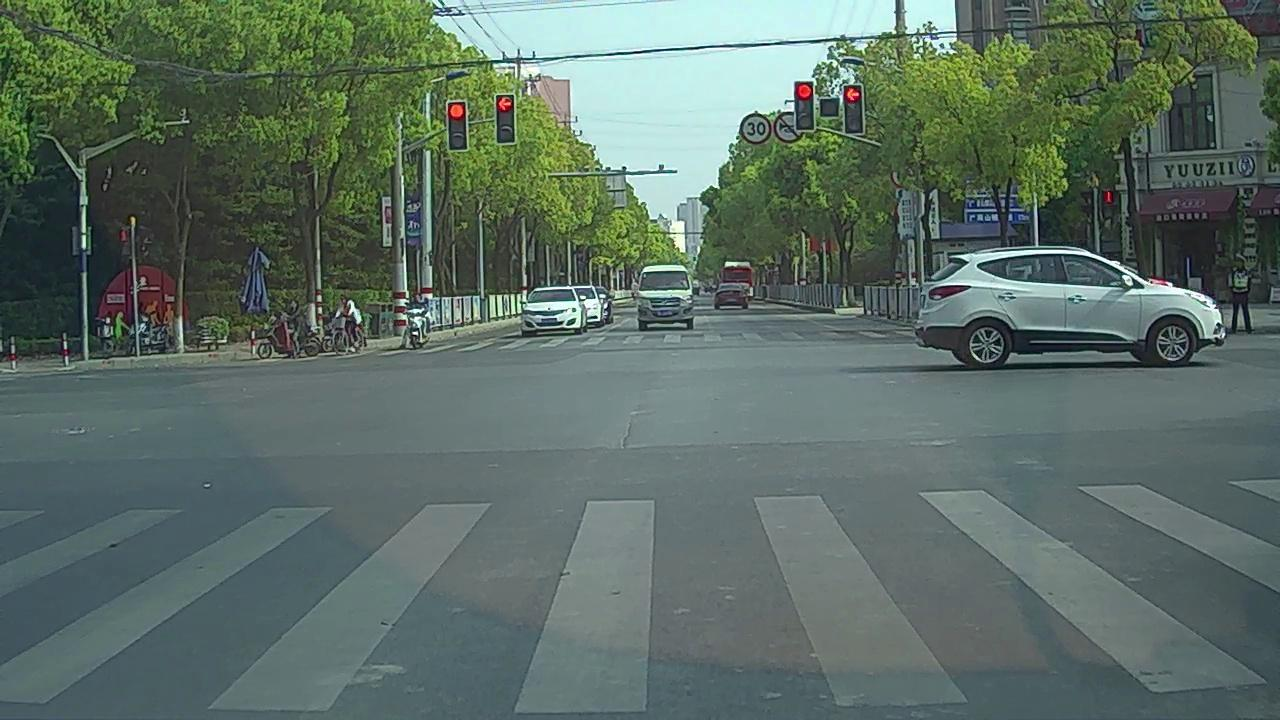traffic_light: (448, 100, 467, 151), (845, 86, 864, 136), (796, 82, 815, 131), (498, 94, 514, 143)
